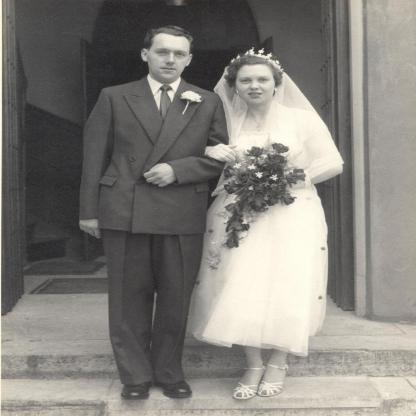face: (150, 35, 190, 82), (237, 66, 277, 105)
